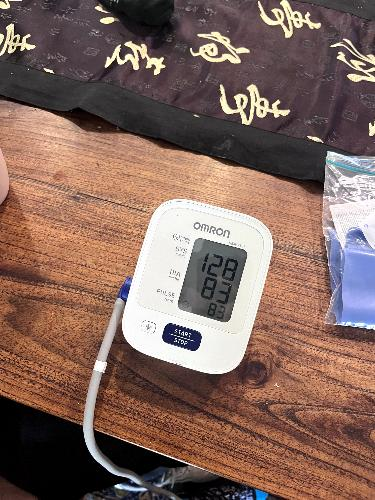bpm: (174, 236, 251, 326)
